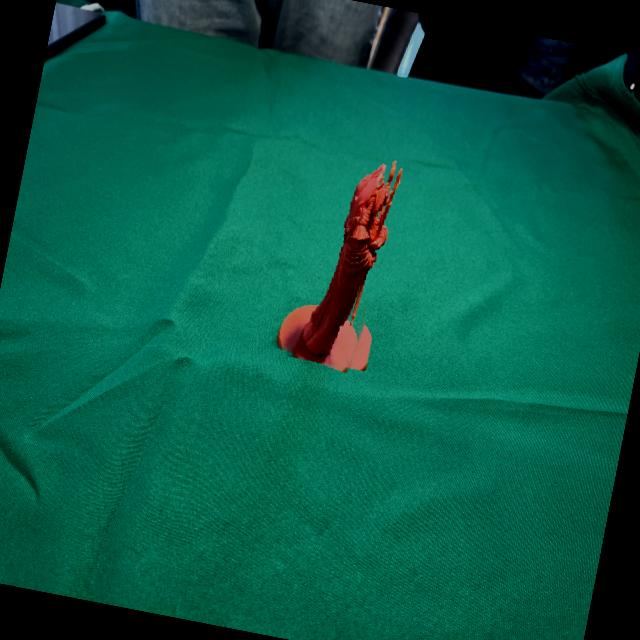amon: (275, 133, 417, 376)
